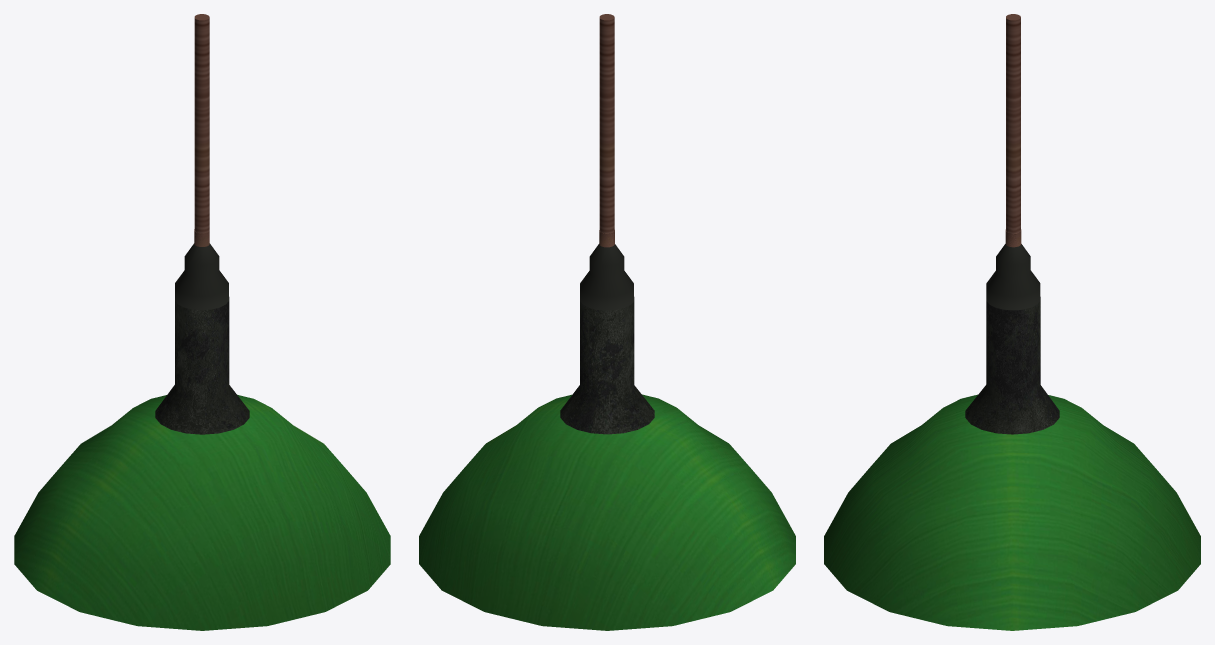
File: lamp.FBX
3 views of the same model, side by side, from view 1: azimuth 30°, elevation 25°; view 2: azimuth 150°, elevation 25°; view 3: azimuth 270°, elevation 25° (orthographic).
Parts seen in each view (by area): view 1: Object001; view 2: Object001; view 3: Object001.
Boxes of the visible parts, x1,y1,x2,y2 form: Object001: (14, 14, 390, 630); Object001: (419, 14, 795, 630); Object001: (824, 14, 1200, 630).
Size of the model in its own units: 0.9309 by 1.43 by 0.9167.
Materials: 1 (1 with a texture image).
